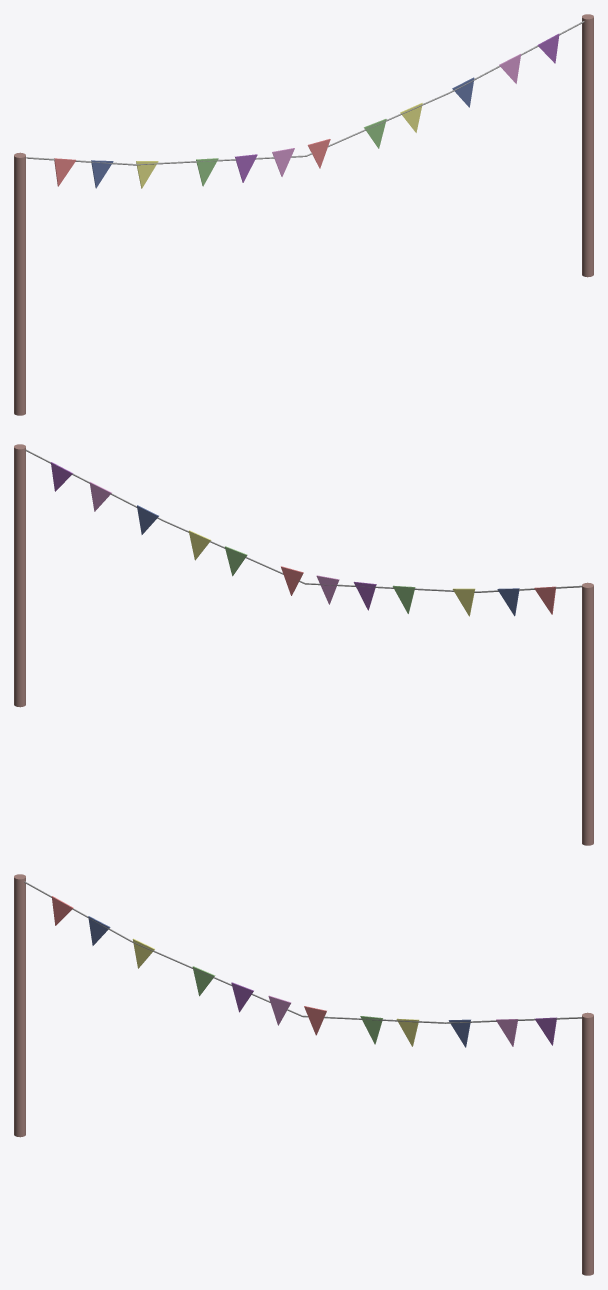
The picture shows the model from 3 angles, top to bottom: view 1: azimuth 30°, elevation 25°; view 2: azimuth 150°, elevation 25°; view 3: azimuth 330°, elevation 25°; orthographic projection.
Parts seen in each view (by area): view 1: pCylinder1, pCylinder2, extrudedSurface1; view 2: pCylinder2, pCylinder1, extrudedSurface1; view 3: pCylinder2, pCylinder1, extrudedSurface1.
Part boxes in pixels (left/top/right/bottom): pCylinder1: left=14, top=152, right=25, bottom=415; pCylinder2: left=582, top=14, right=593, bottom=277; extrudedSurface1: left=26, top=21, right=584, bottom=165; pCylinder2: left=14, top=444, right=25, bottom=707; pCylinder1: left=582, top=582, right=593, bottom=845; extrudedSurface1: left=25, top=449, right=581, bottom=592; pCylinder2: left=582, top=1012, right=593, bottom=1275; pCylinder1: left=14, top=874, right=25, bottom=1137; extrudedSurface1: left=24, top=881, right=581, bottom=1023.
Bounding box in the file's own units: 22.43 × 9.56 × 0.408.
